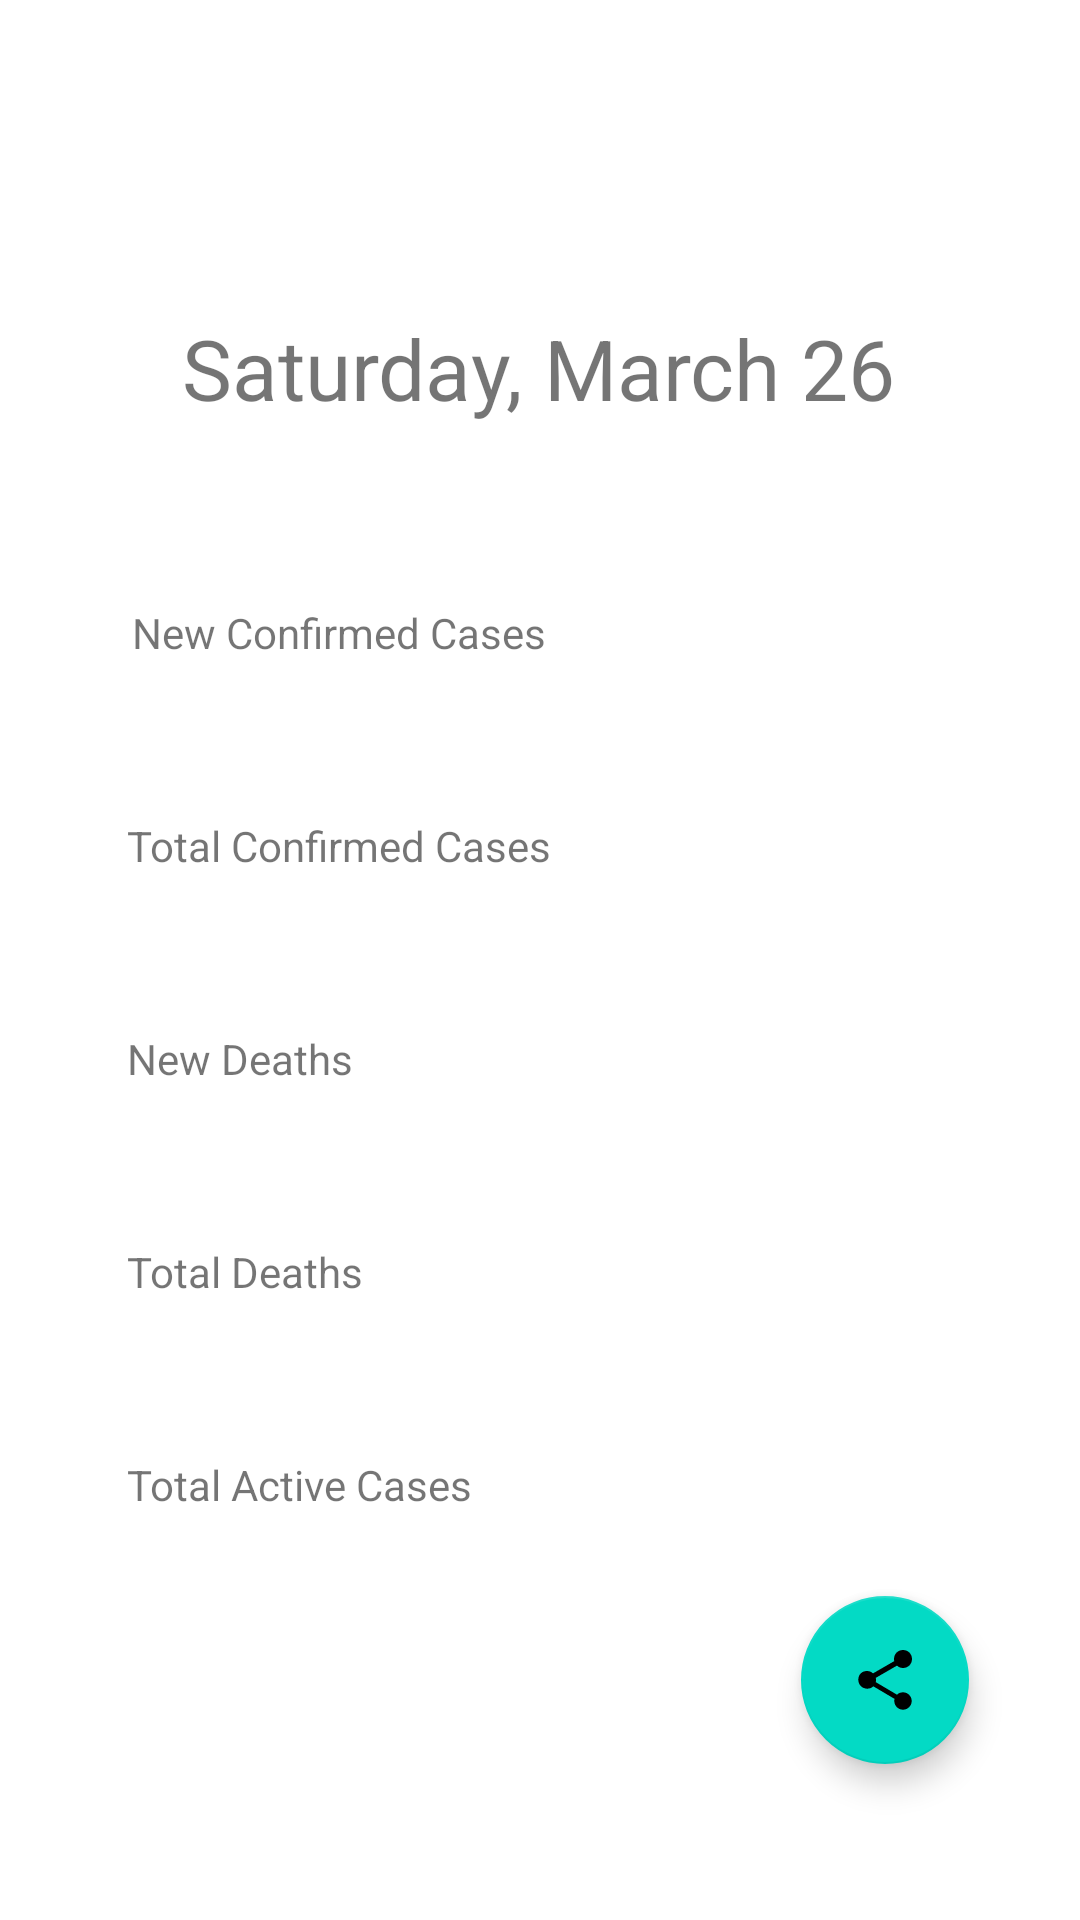

Where icons sit on this 1080px×1920px app screen, as box=[x1, y1, x2, y2]:
Press to Share the details of this Covid Record: box=[801, 1596, 969, 1764]
